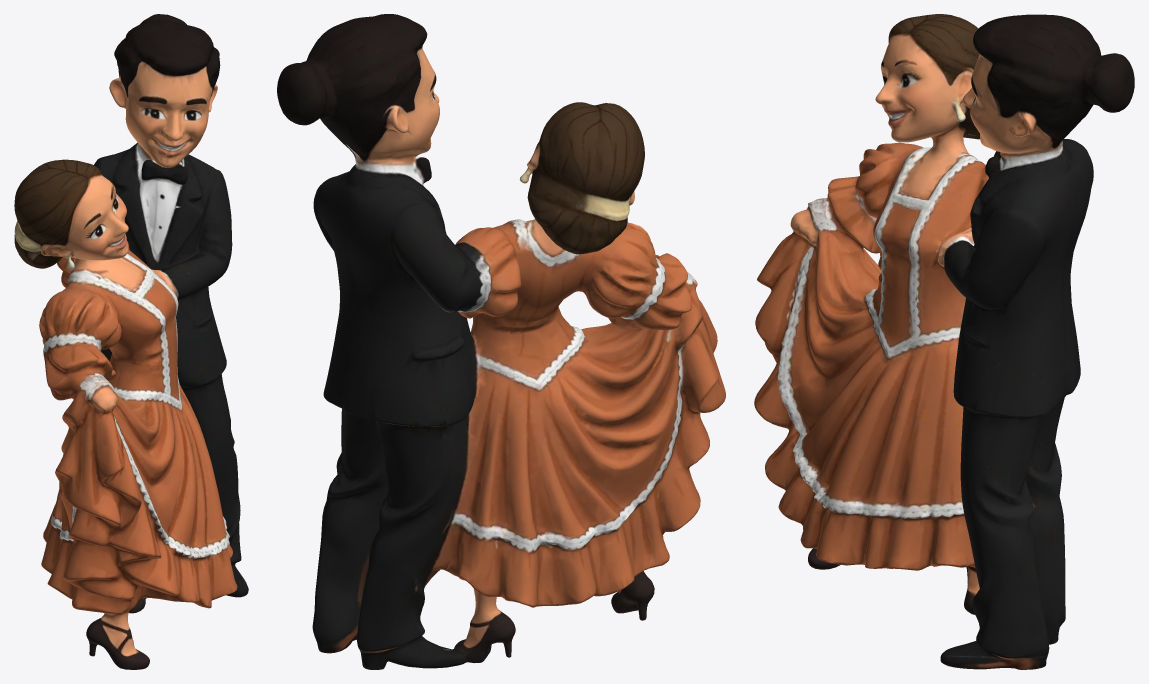
The model's file is 02-vals-pareja.glb.
3 views of the same model, side by side, from view 1: azimuth 30°, elevation 25°; view 2: azimuth 150°, elevation 25°; view 3: azimuth 270°, elevation 25° (orthographic). The views are drawn at different scales.
Size of the model in its own units: 0.9356 by 1.9 by 1.05.
1 material, 1 textured.
